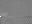person: (1, 15, 7, 20)
